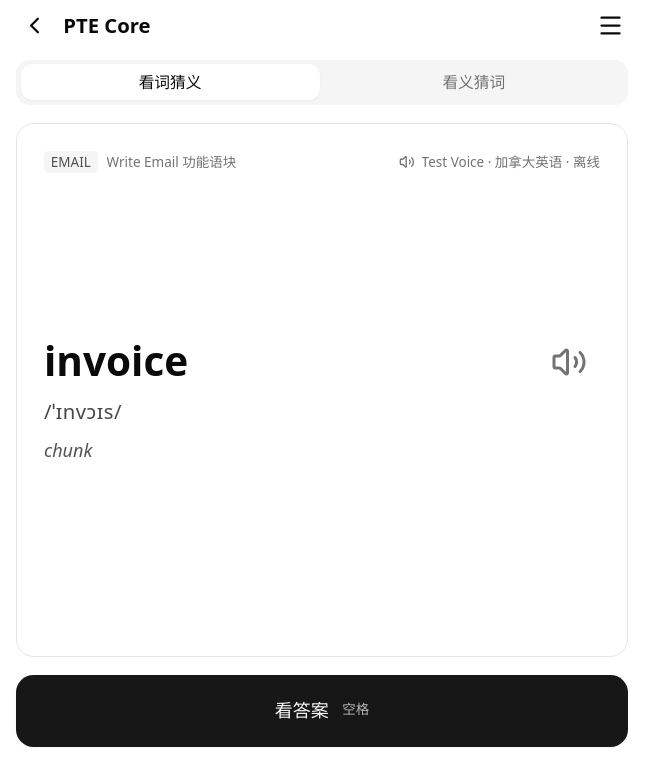
Test: 音标与朗读 › speak() 收下了请求却迟迟不出声，超时后也要报出来
Click the button named "朗读" at (568, 362), box x1=537 y1=331 x2=600 y2=394
Wait 2000 ms
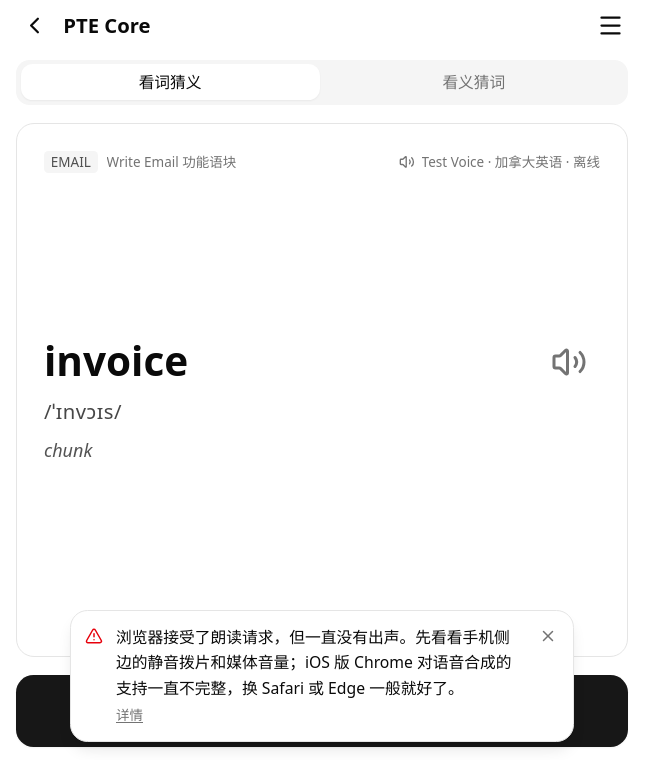
Check: the message shows "一直没有出声", box x1=116 y1=626 x2=512 y2=699
